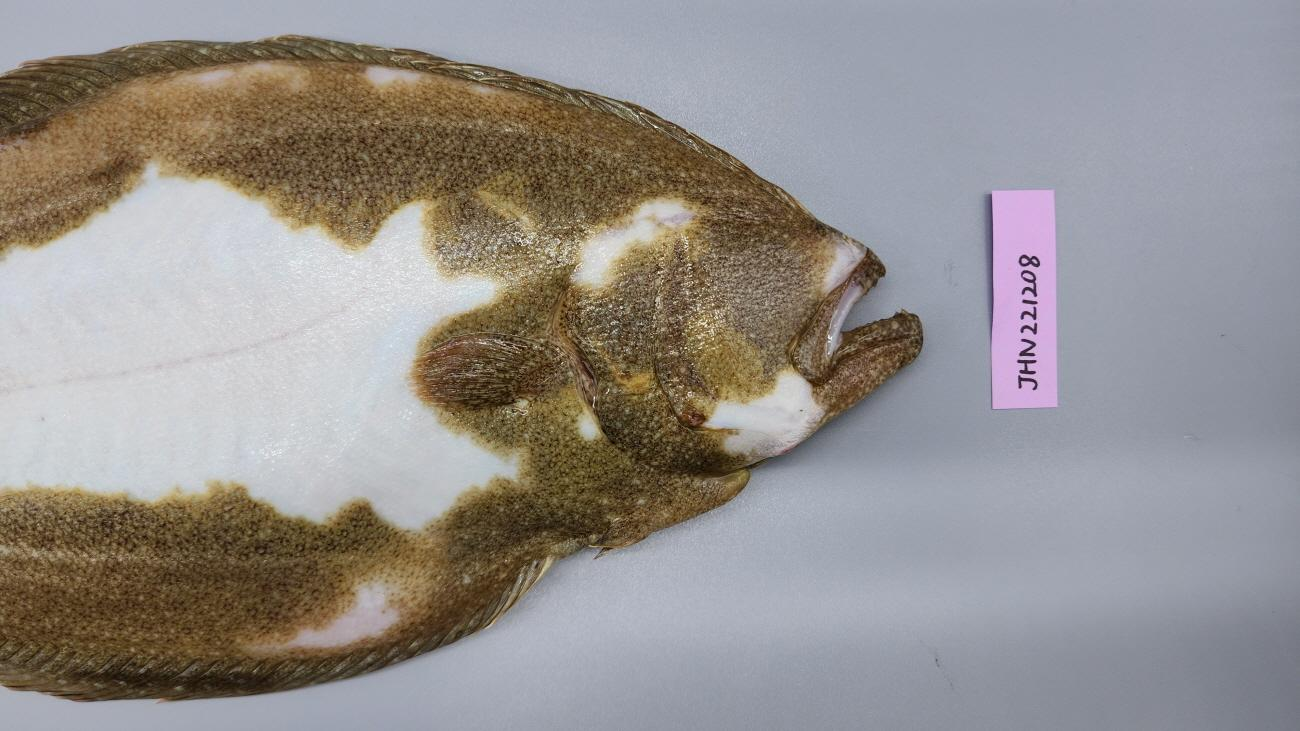POOUN: (0, 34, 925, 705)
